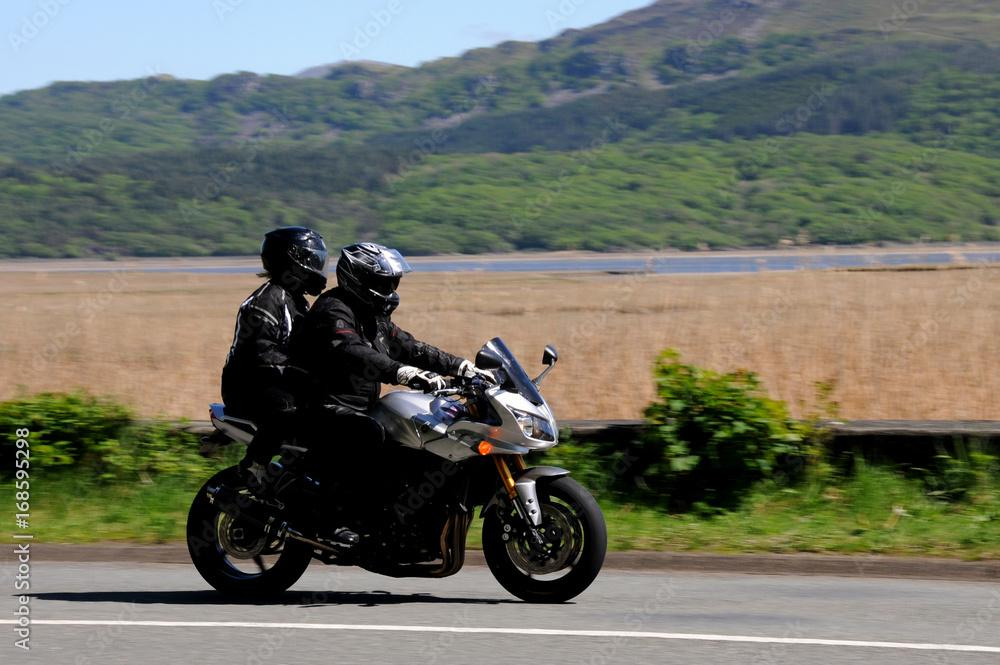helmet: (336, 241, 414, 319), (259, 225, 330, 297)
